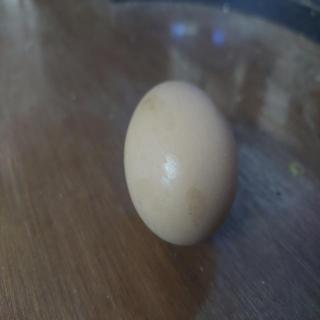Telur: (119, 77, 243, 252)
